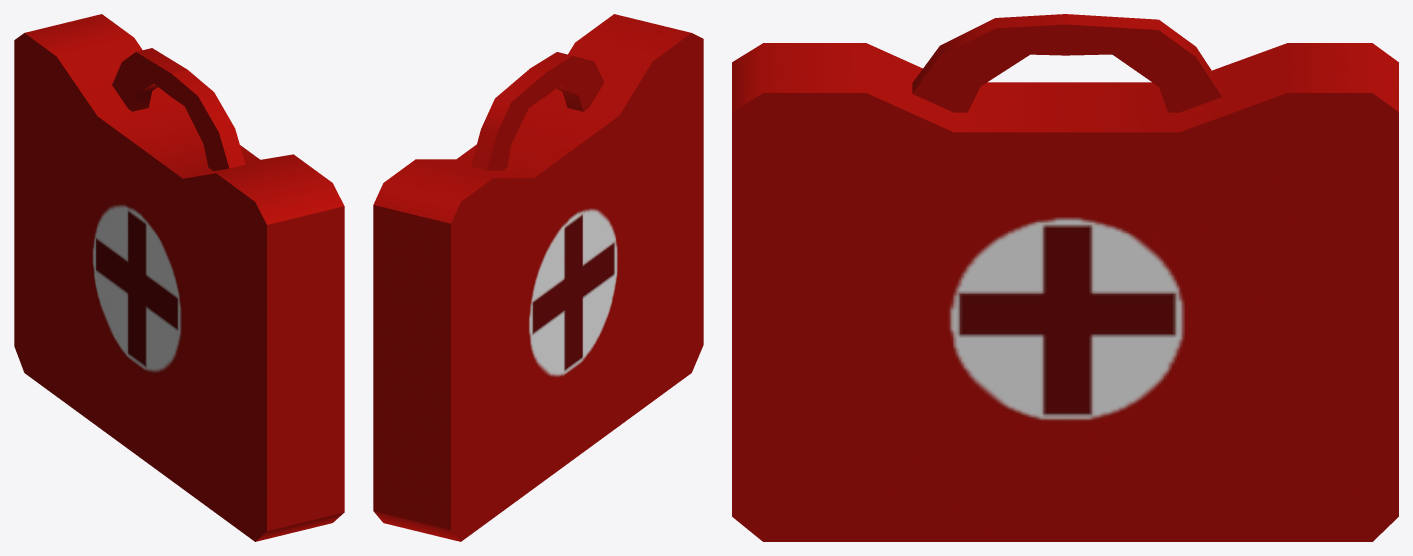
Rendered from Medi_Bag.fbx.
The picture shows the model from 3 angles, left to right: view 1: azimuth 30°, elevation 25°; view 2: azimuth 150°, elevation 25°; view 3: azimuth 270°, elevation 25°; orthographic projection. The views are drawn at different scales.
Visible parts, largest first — view 1: Medi_Bag_; view 2: Medi_Bag_; view 3: Medi_Bag_.
Part boxes in pixels (left/top/right/bottom): Medi_Bag_: left=14, top=14, right=344, bottom=541; Medi_Bag_: left=373, top=14, right=703, bottom=541; Medi_Bag_: left=732, top=14, right=1398, bottom=541.
Size of the model in its own units: 0.3414 by 1.59 by 1.93.
Materials: 1 (1 with a texture image).
